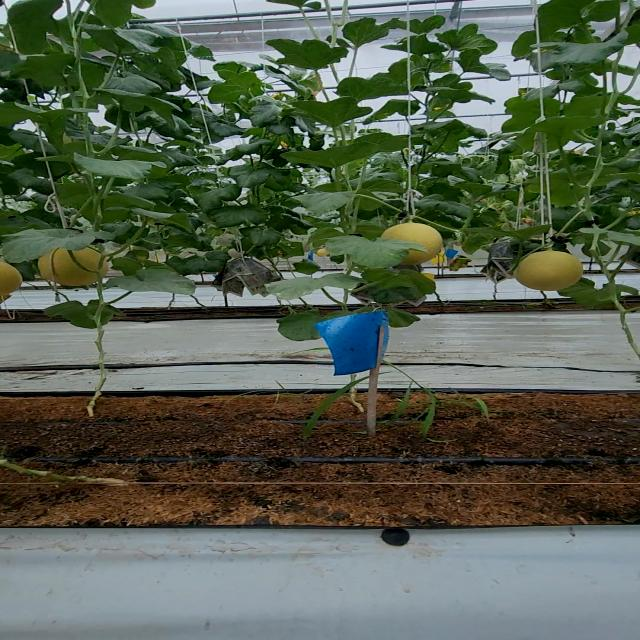Rear-melon: (524, 251, 587, 289)
